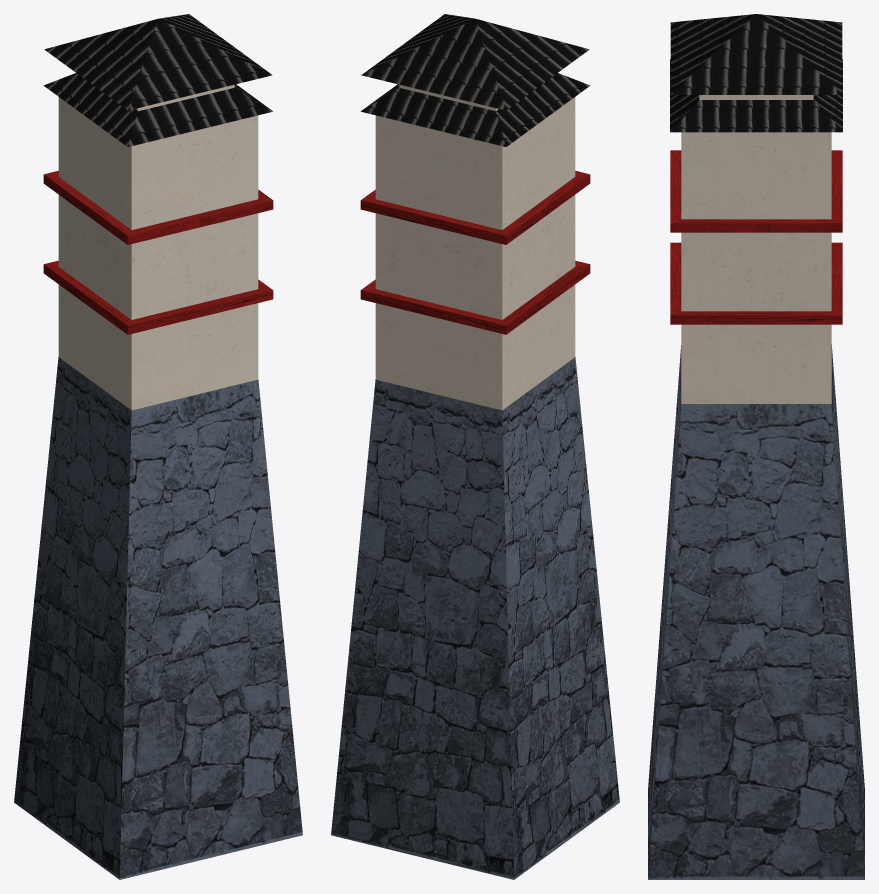
Rendered from WallHighPost.fbx.
3 views of the same model, side by side, from view 1: azimuth 30°, elevation 25°; view 2: azimuth 150°, elevation 25°; view 3: azimuth 270°, elevation 25° (orthographic). The views are drawn at different scales.
Visible parts, largest first — view 1: Cube_017, Cube_028, Cube_027, Cube_021; view 2: Cube_017, Cube_028, Cube_027, Cube_021; view 3: Cube_017, Cube_028, Cube_027, Cube_021.
Part boxes in pixels (left/top/right/bottom): Cube_017: left=14, top=357, right=302, bottom=879; Cube_028: left=58, top=84, right=258, bottom=410; Cube_027: left=43, top=14, right=272, bottom=146; Cube_021: left=43, top=171, right=273, bottom=334; Cube_017: left=331, top=357, right=619, bottom=879; Cube_028: left=375, top=84, right=575, bottom=410; Cube_027: left=361, top=14, right=590, bottom=146; Cube_021: left=360, top=171, right=590, bottom=334; Cube_017: left=648, top=345, right=864, bottom=879; Cube_028: left=681, top=95, right=831, bottom=403; Cube_027: left=670, top=14, right=842, bottom=132; Cube_021: left=670, top=150, right=842, bottom=324.
Bounding box in the file's own units: 209 × 874 × 209.
